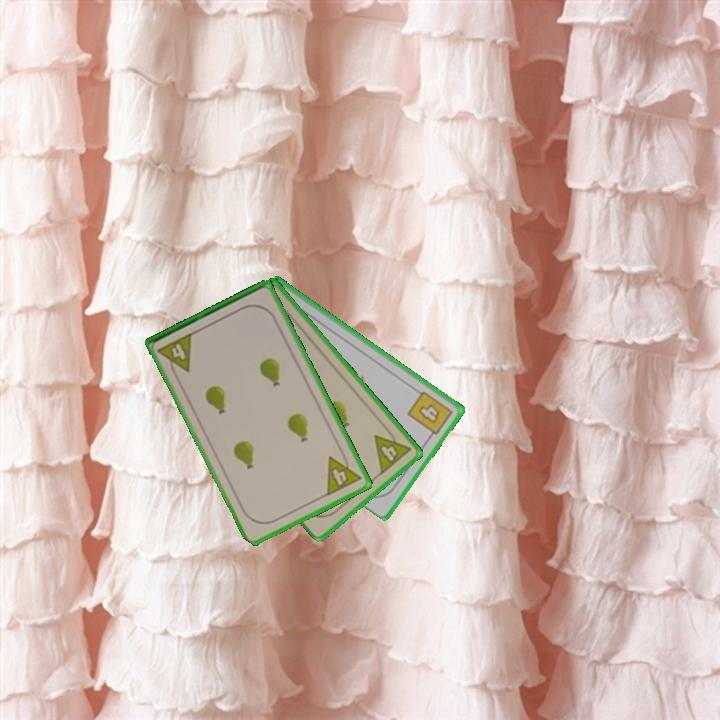4b: (404, 387, 456, 442)
4p: (371, 423, 414, 477), (154, 329, 196, 380), (323, 447, 364, 499)
